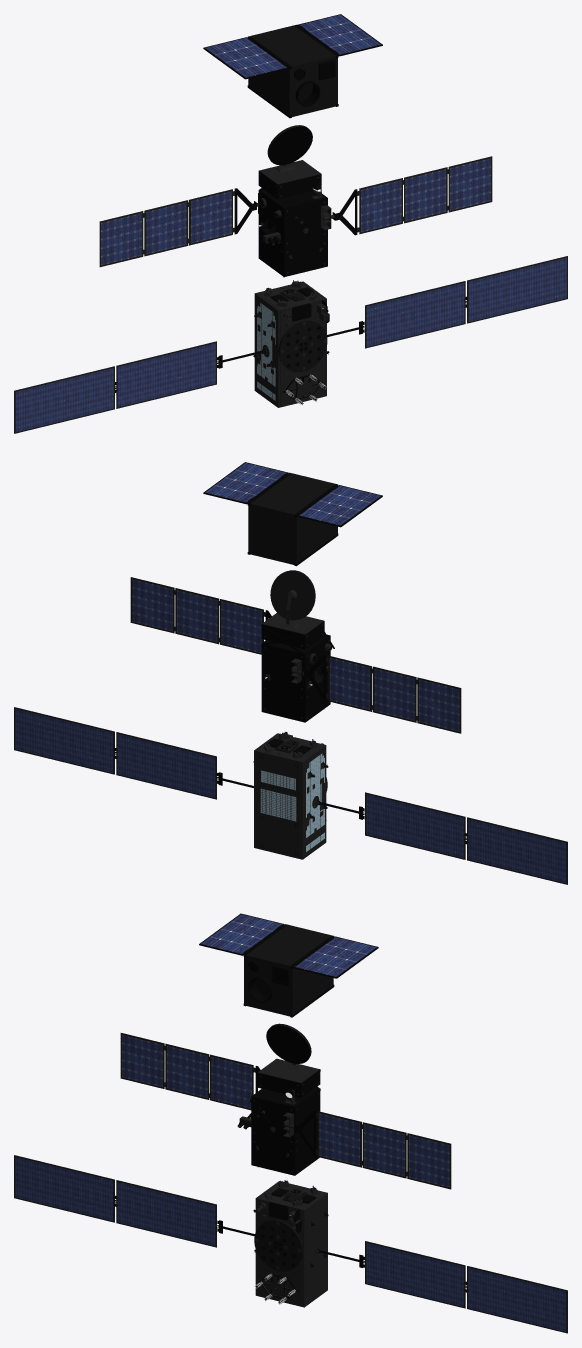
Rendered from Satelliten.fbx.
3 renders of one model, top to bottom at view 1: azimuth 30°, elevation 25°; view 2: azimuth 150°, elevation 25°; view 3: azimuth 330°, elevation 25°, orthographic.
Visible parts, largest first — view 1: Satellit_Gross, Satellit_Mittel, Cubesat; view 2: Satellit_Gross, Satellit_Mittel, Cubesat; view 3: Satellit_Gross, Satellit_Mittel, Cubesat.
Part boxes in pixels (x1=…): Satellit_Gross: x1=14, y1=256, x2=567, y2=433; Satellit_Mittel: x1=99, y1=125, x2=492, y2=277; Cubesat: x1=203, y1=14, x2=382, y2=118; Satellit_Gross: x1=14, y1=707, x2=567, y2=884; Satellit_Mittel: x1=130, y1=570, x2=461, y2=733; Cubesat: x1=203, y1=462, x2=382, y2=566; Satellit_Gross: x1=14, y1=1155, x2=567, y2=1333; Satellit_Mittel: x1=120, y1=1023, x2=451, y2=1189; Cubesat: x1=199, y1=913, x2=378, y2=1017.
Bounding box in the file's own units: 2540 × 1534 × 345.
13 materials, 3 textured.
